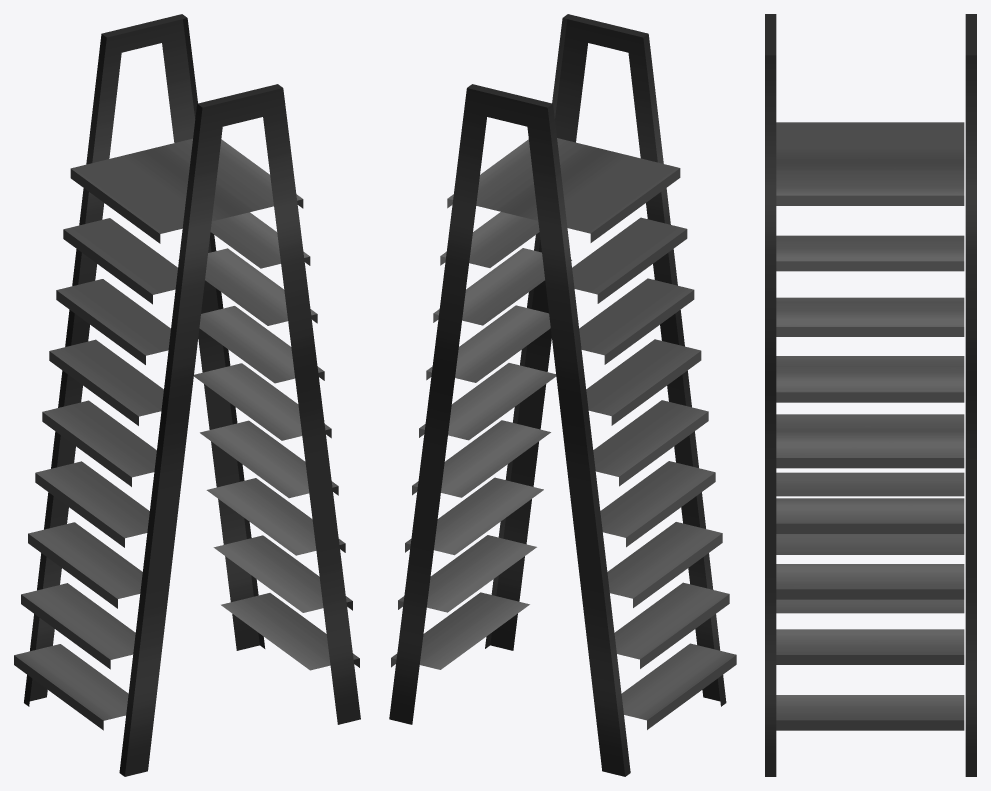
File: Ladder.fbx
3 renders of one model, left to right at view 1: azimuth 30°, elevation 25°; view 2: azimuth 150°, elevation 25°; view 3: azimuth 270°, elevation 25°, orthographic. The views are drawn at different scales.
Visible parts, largest first — view 1: Hall.096; view 2: Hall.096; view 3: Hall.096.
Part boxes in pixels (left/top/right/bottom): Hall.096: left=14, top=14, right=360, bottom=776; Hall.096: left=389, top=14, right=736, bottom=776; Hall.096: left=765, top=14, right=976, bottom=776.
Size of the model in its own units: 124 by 300 by 84.5.
